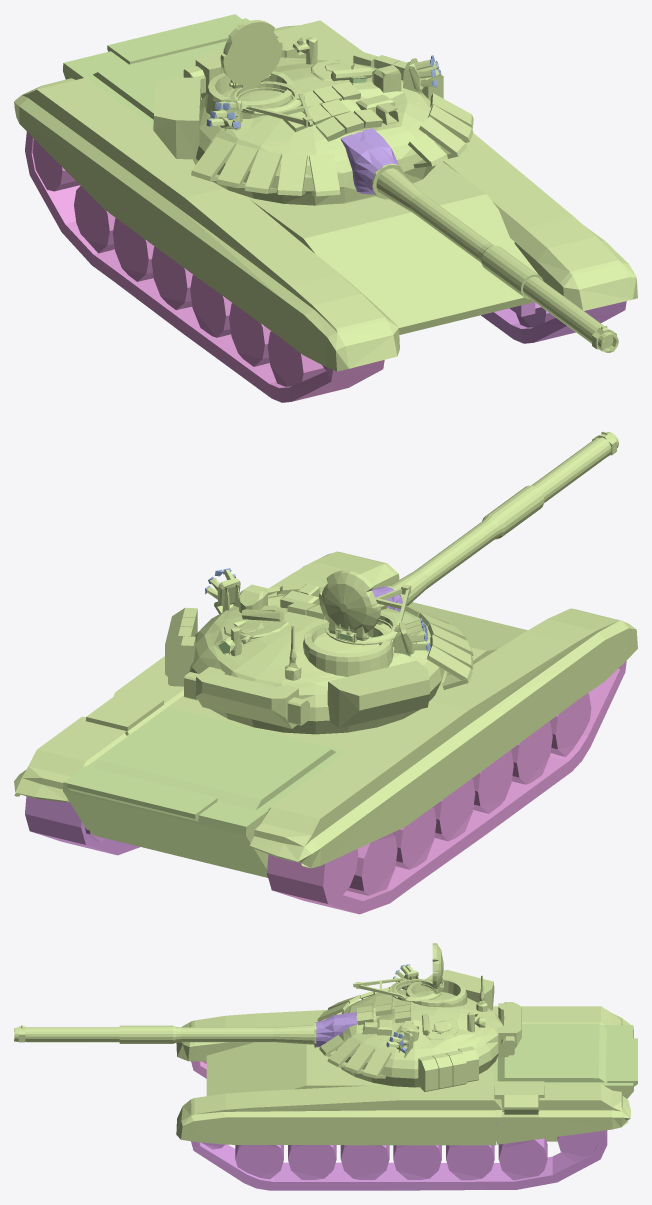
File: land-tracked-tnk-04-default.glb
The picture shows the model from 3 angles, top to bottom: view 1: azimuth 30°, elevation 25°; view 2: azimuth 150°, elevation 25°; view 3: azimuth 270°, elevation 25°; orthographic projection. The views are drawn at different scales.
Visible parts, largest first — view 1: CC_TNK_04_Body, CC_TNK_04_Turret_Yaw, CC_TNK_04_Turret, CC_TNK_04_Gunner_Hatch; view 2: CC_TNK_04_Body, CC_TNK_04_Turret_Yaw, CC_TNK_04_Turret, CC_TNK_04_Gunner_Hatch; view 3: CC_TNK_04_Body, CC_TNK_04_Turret_Yaw, CC_TNK_04_Turret, CC_TNK_04_Gunner_Hatch.
Part boxes in pixels (x1,y1,x2,y2): CC_TNK_04_Body: [14, 14, 637, 402]; CC_TNK_04_Turret_Yaw: [153, 24, 473, 205]; CC_TNK_04_Turret: [371, 163, 618, 352]; CC_TNK_04_Gunner_Hatch: [220, 20, 312, 126]; CC_TNK_04_Body: [14, 551, 637, 914]; CC_TNK_04_Turret_Yaw: [165, 568, 473, 734]; CC_TNK_04_Turret: [377, 431, 618, 611]; CC_TNK_04_Gunner_Hatch: [319, 570, 411, 645]; CC_TNK_04_Body: [176, 1006, 637, 1190]; CC_TNK_04_Turret_Yaw: [316, 964, 521, 1091]; CC_TNK_04_Turret: [14, 1022, 316, 1047]; CC_TNK_04_Gunner_Hatch: [353, 943, 443, 1001].
Size of the model in its own units: 3.98 by 3.33 by 10.5.
